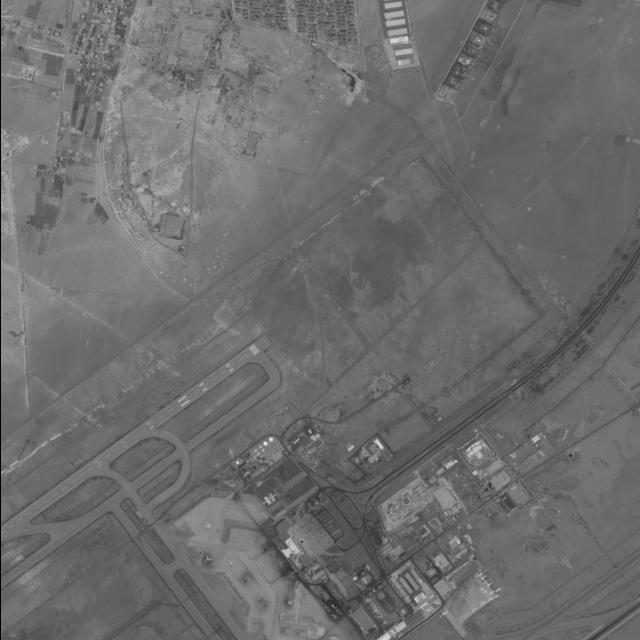plane: (492, 582, 505, 595), (485, 592, 497, 605), (481, 579, 494, 591), (437, 608, 449, 620), (474, 568, 486, 580), (479, 575, 491, 587), (490, 589, 501, 602), (476, 573, 488, 584), (477, 598, 488, 609), (485, 587, 496, 597), (202, 554, 212, 565), (468, 605, 478, 615), (202, 521, 212, 531), (225, 558, 234, 569), (284, 599, 294, 608), (477, 585, 485, 594), (480, 588, 488, 596)
storage-tank: (261, 440, 268, 447), (267, 436, 273, 442), (234, 460, 239, 464), (258, 445, 262, 449), (260, 448, 263, 452), (255, 452, 259, 455), (253, 449, 257, 452)
